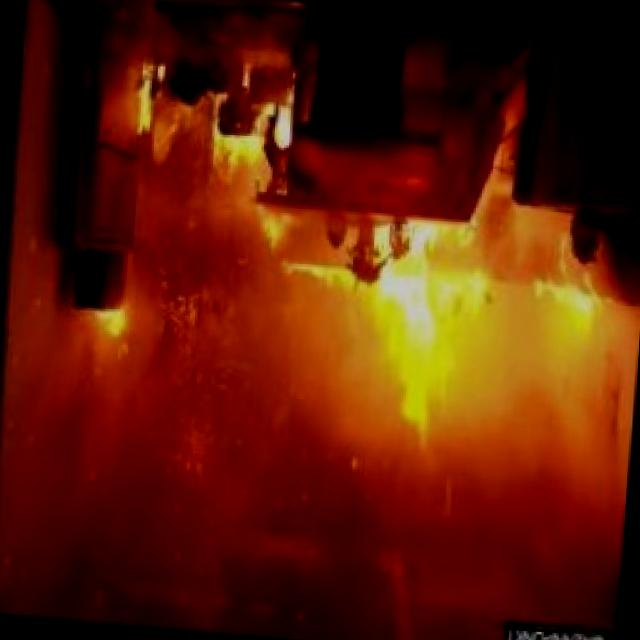fire: (269, 268, 640, 538)
